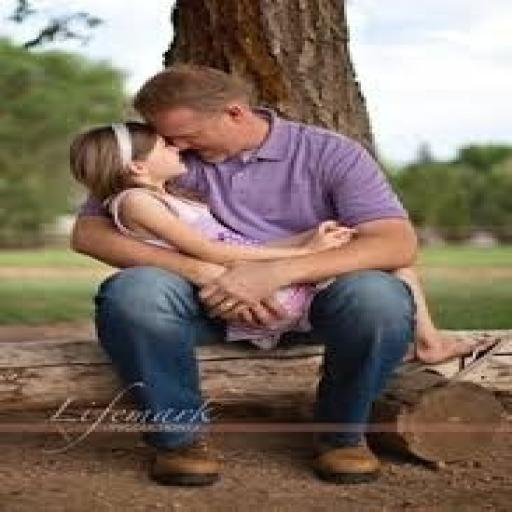hugging: (64, 61, 498, 486)
